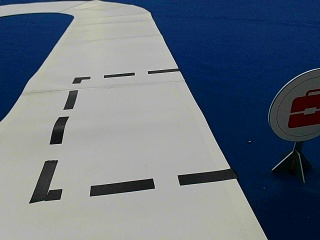company: (268, 70, 318, 140)
